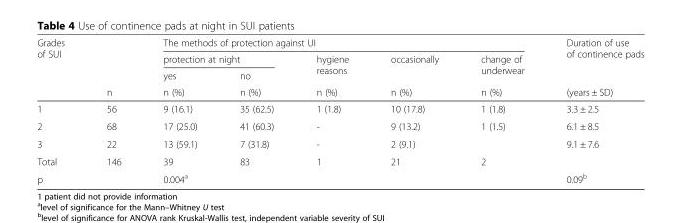table: (36, 36, 643, 184)
table column: (544, 36, 643, 184), (369, 36, 459, 184), (459, 36, 544, 184), (217, 36, 294, 184), (141, 36, 217, 184), (294, 36, 369, 184), (85, 36, 141, 184), (36, 36, 85, 184)
table column header: (36, 36, 643, 100)
table row: (36, 134, 643, 152), (36, 66, 643, 83), (36, 83, 643, 100), (36, 100, 643, 117), (36, 117, 643, 134), (36, 152, 643, 169), (36, 50, 643, 66), (36, 169, 643, 184), (36, 36, 643, 50)
table spanning cell: (544, 36, 643, 100), (141, 36, 544, 50), (369, 50, 459, 100), (459, 50, 544, 100), (294, 50, 369, 100), (85, 36, 141, 100), (36, 36, 85, 100), (217, 66, 294, 100), (141, 66, 217, 100), (141, 50, 294, 66), (141, 169, 294, 184)
